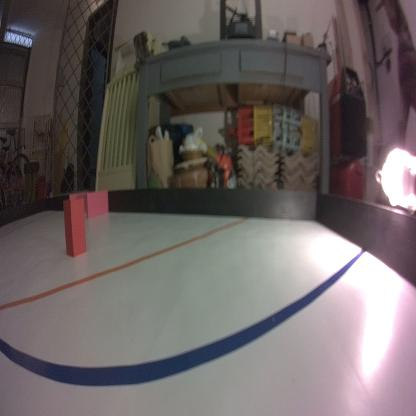magenta: (85, 188, 110, 218)
red: (63, 193, 89, 260)
